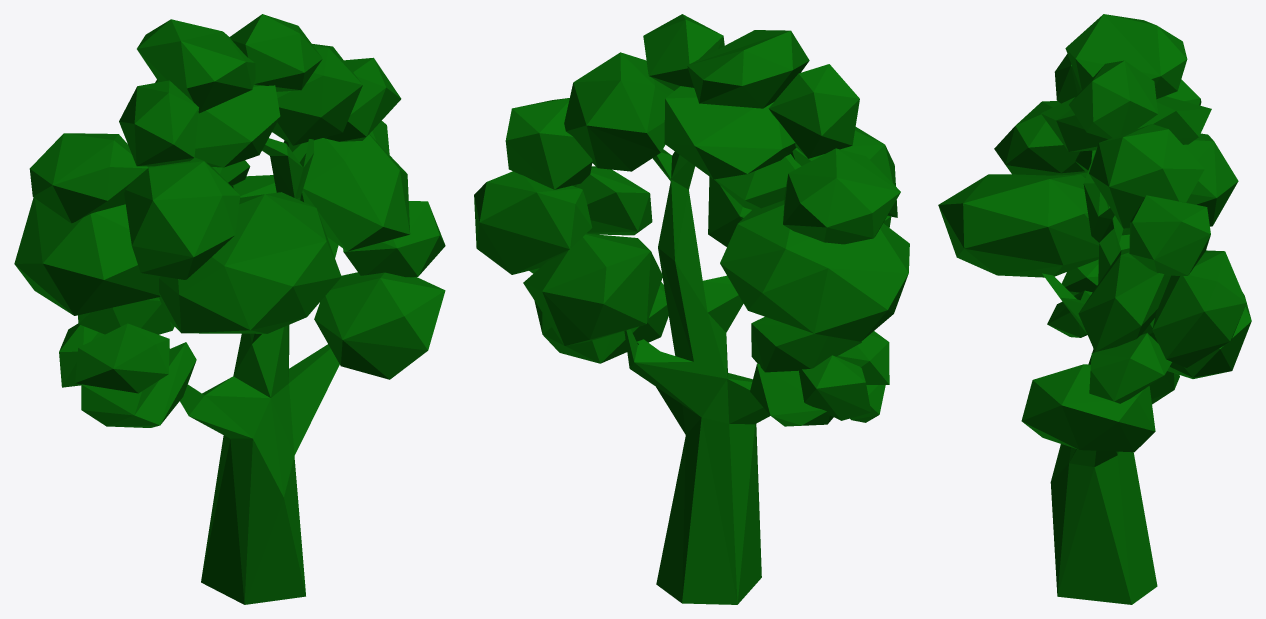
File: Oak_Tree_605face.fbx
The picture shows the model from 3 angles, left to right: view 1: azimuth 30°, elevation 25°; view 2: azimuth 150°, elevation 25°; view 3: azimuth 270°, elevation 25°; orthographic projection. The views are drawn at different scales.
Parts seen in each view (by area): view 1: Oak; view 2: Oak; view 3: Oak.
Boxes of the visible parts, <box> form: Oak: <box>14,14,445,604</box>; Oak: <box>474,14,909,604</box>; Oak: <box>938,14,1251,604</box>.
Bounding box in the file's own units: 397 × 533 × 282.
